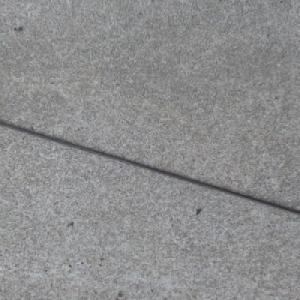LuggagePart: (0, 119, 300, 214)
